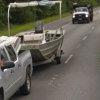Boat: (6, 0, 68, 70)
